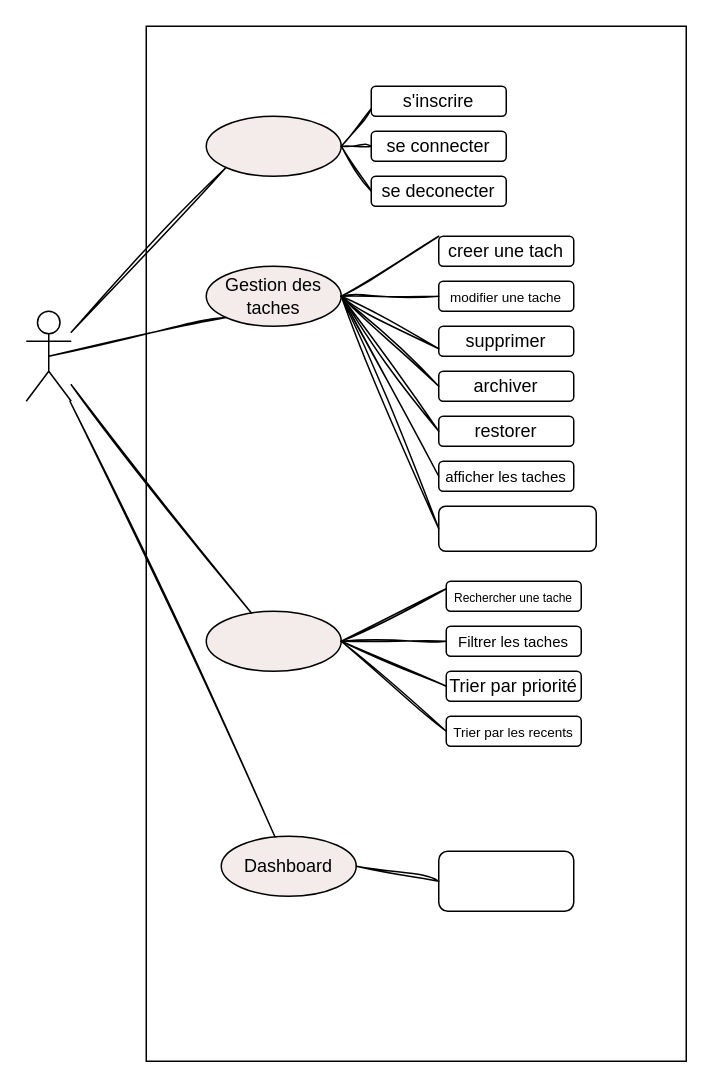
Image size: 713x1088. Some labels were removed from this diagram. The shapes that lost their labels are listed below. From the top down, each one's centre as x and y in pixels, then its label:
[273,145]: Authentification
[48,355]: Actor
[516,528]: changer le status d'une tach
[273,640]: separation des taches
[505,880]: Consulter les statistiques
